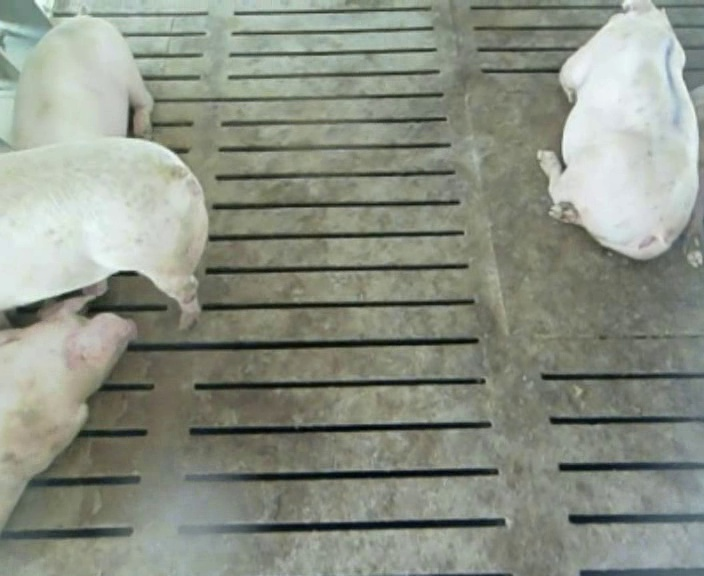pig: (537, 3, 698, 259), (0, 137, 207, 330), (0, 295, 135, 531)
